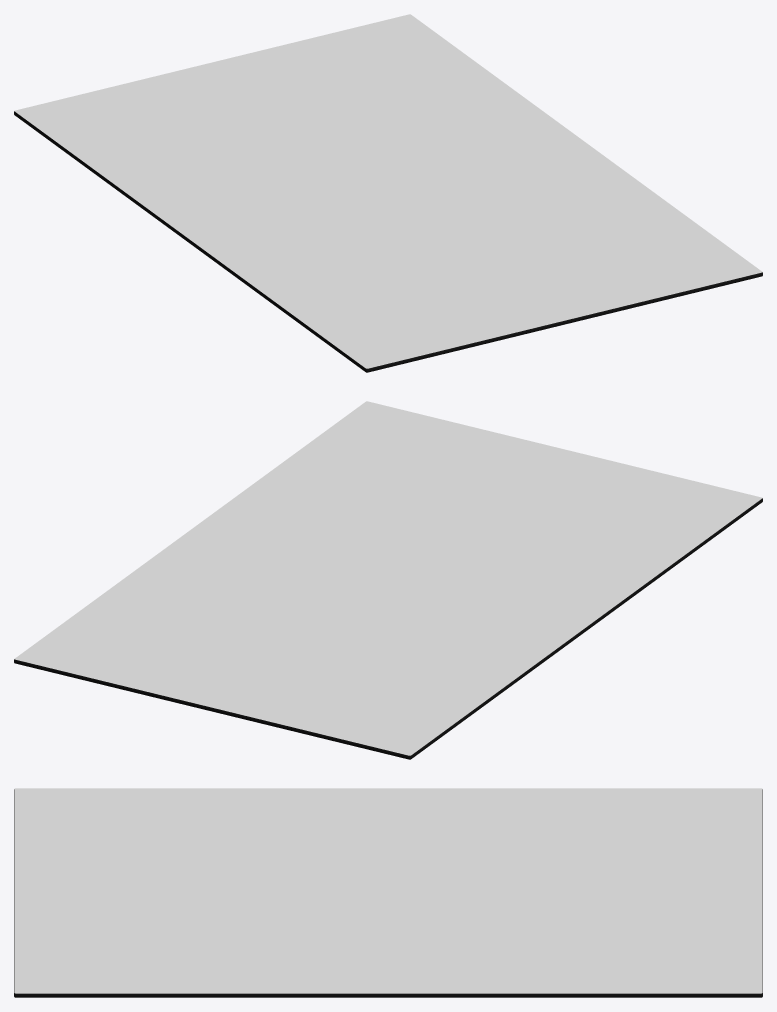
Rendered from SM_Stove.dae.
3 views of the same model, one above another, from view 1: azimuth 30°, elevation 25°; view 2: azimuth 150°, elevation 25°; view 3: azimuth 270°, elevation 25° (orthographic). The views are drawn at different scales.
Visible parts, largest first — view 1: SM_Stove; view 2: SM_Stove; view 3: SM_Stove.
Boxes of the visible parts, bbox=[...] form: SM_Stove: bbox=[14, 14, 762, 372]; SM_Stove: bbox=[14, 401, 762, 759]; SM_Stove: bbox=[14, 788, 762, 997].
Size of the model in its own units: 0.5165 by 0.7958 by 0.0048.
Materials: 3 (1 with a texture image).
